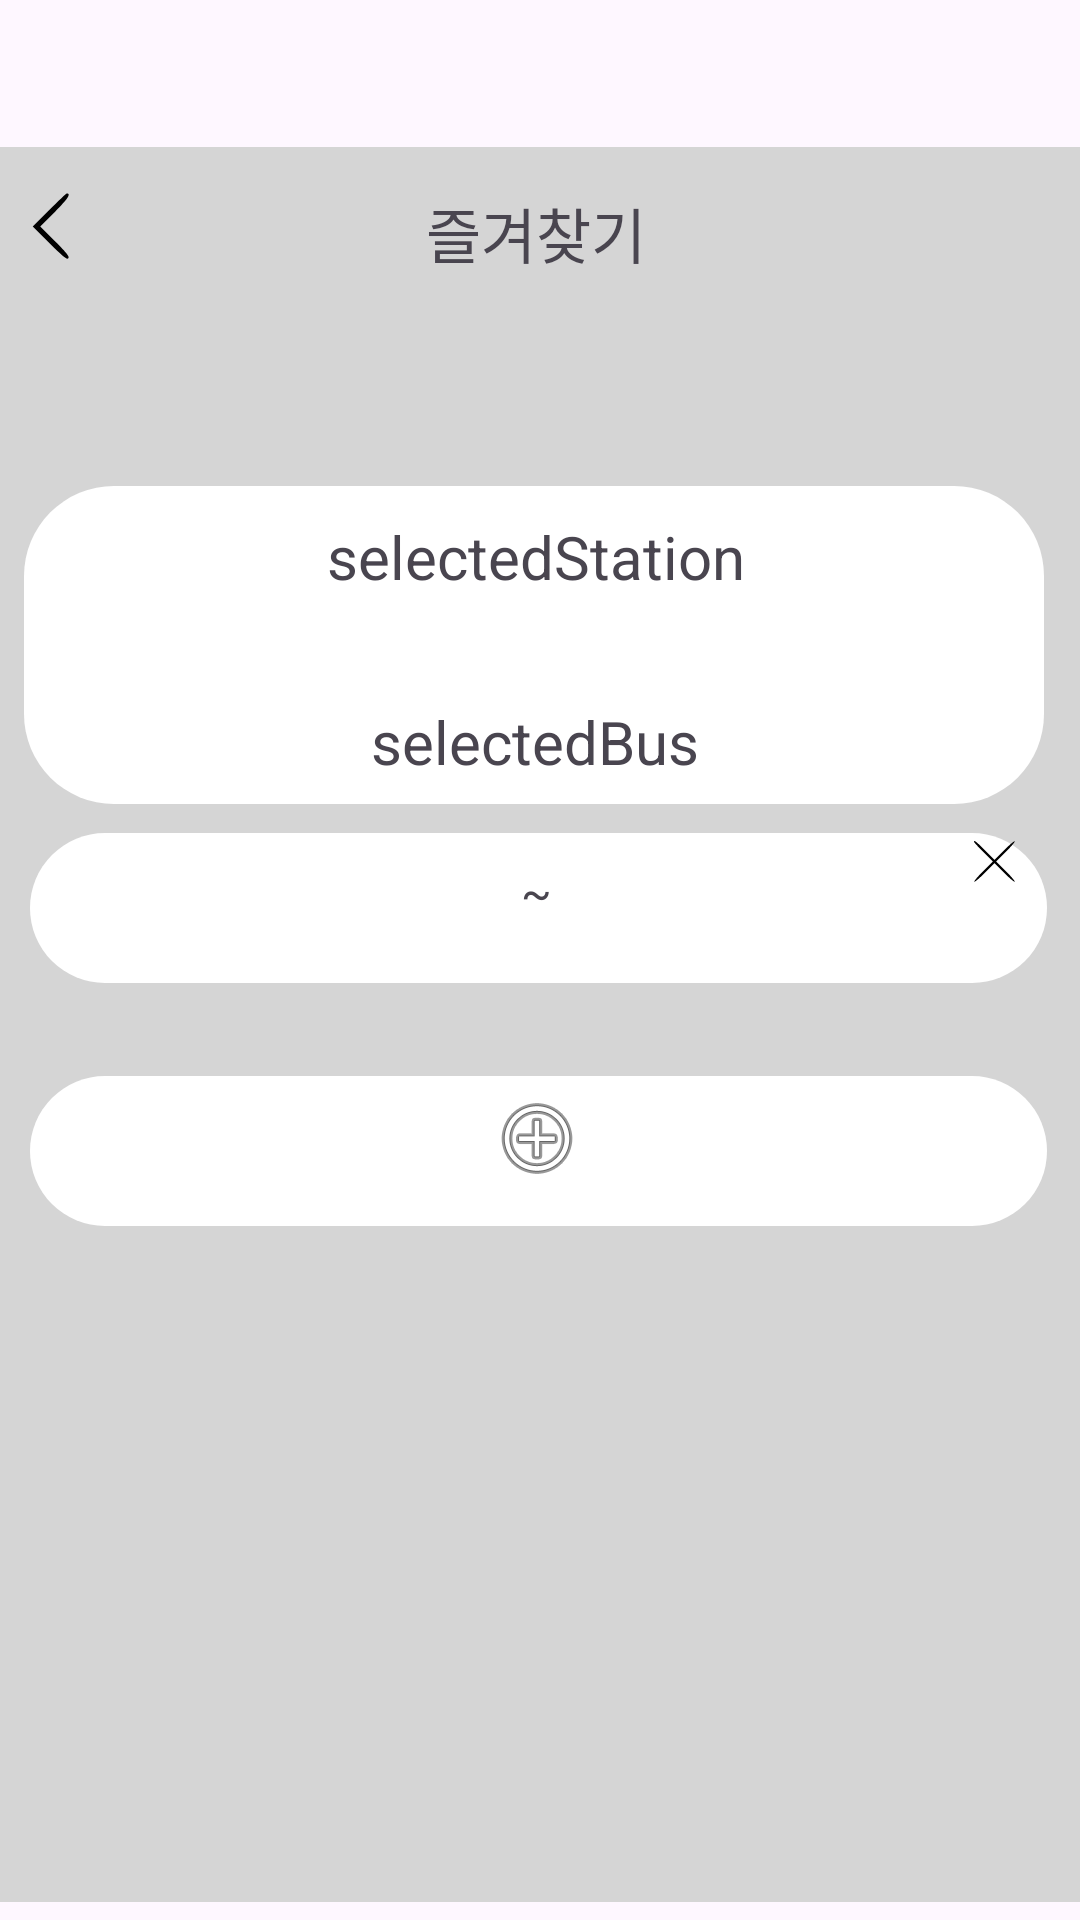

Icons on this 1080px x 1920px Android screen, each with the point to tap as [x,y]:
back: [51,226]
